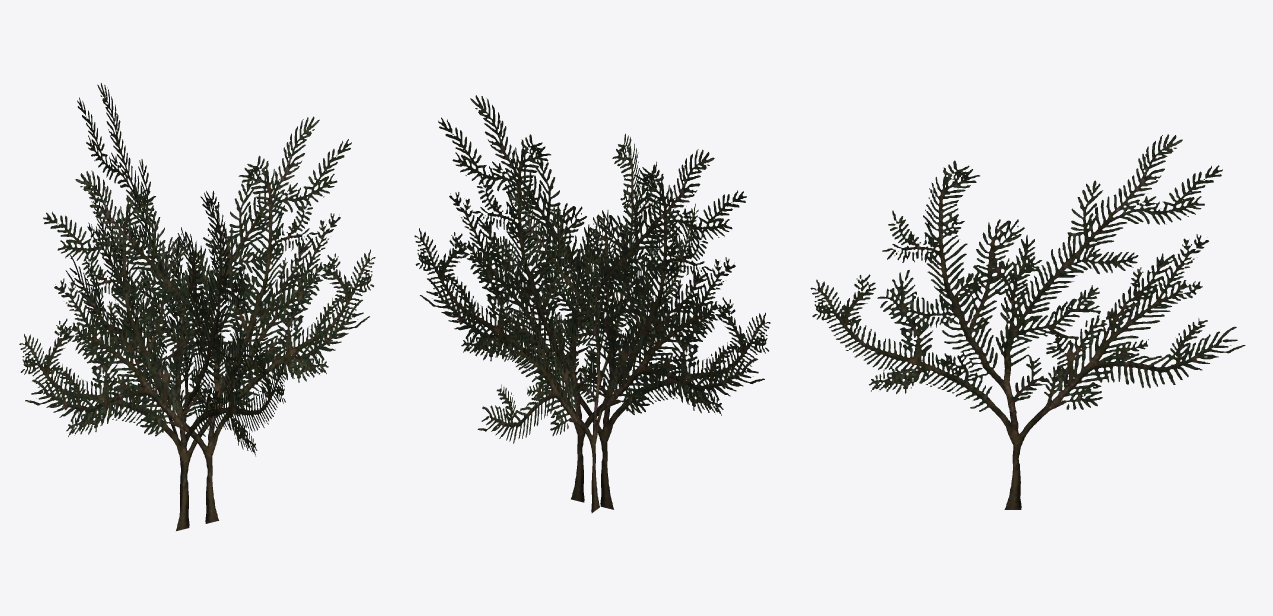
File: mtns_shrb_evergreen_a3_l2.fbx
3 renders of one model, left to right at view 1: azimuth 30°, elevation 25°; view 2: azimuth 150°, elevation 25°; view 3: azimuth 270°, elevation 25°, orthographic.
Parts seen in each view (by area): view 1: mesh_node; view 2: mesh_node; view 3: mesh_node.
Part boxes in pixels (x1=…): mesh_node: x1=19, y1=83, x2=375, y2=530; mesh_node: x1=414, y1=95, x2=770, y2=512; mesh_node: x1=810, y1=134, x2=1245, y2=509.
Size of the model in its own units: 2.19 by 2.39 by 2.39.
